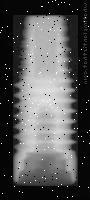Keystone Dental: (13, 14, 79, 187)
